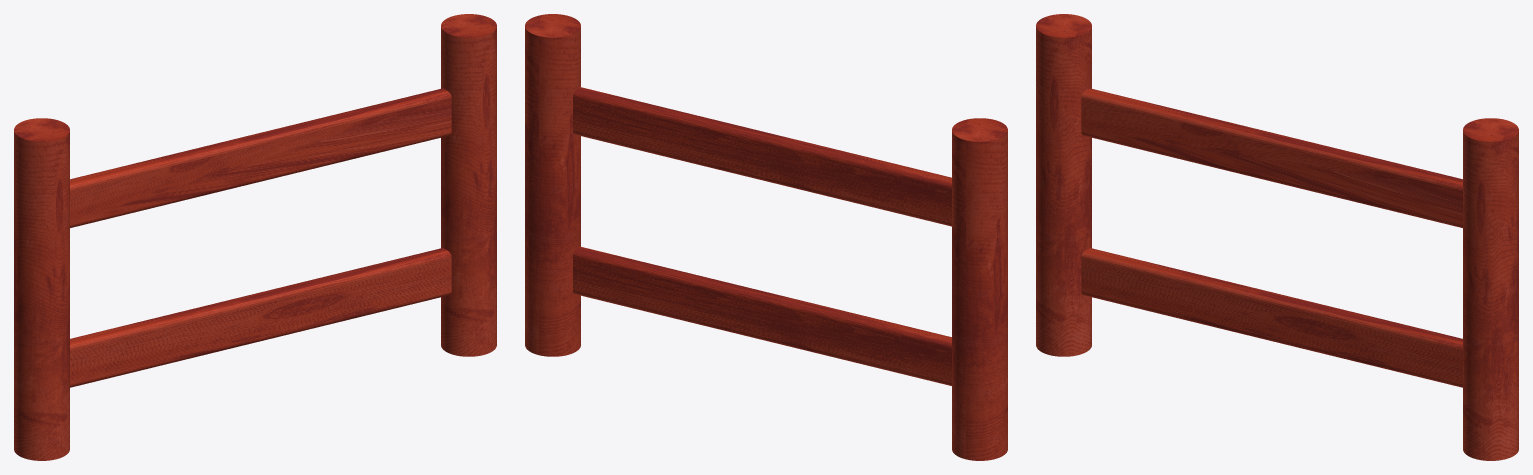
Rendered from fenceB.fbx.
3 views of the same model, side by side, from view 1: azimuth 30°, elevation 25°; view 2: azimuth 150°, elevation 25°; view 3: azimuth 330°, elevation 25° (orthographic).
Parts seen in each view (by area): view 1: Cylinder.002; view 2: Cylinder.002; view 3: Cylinder.002.
Boxes of the visible parts, box(x1,y1,x2,y2) form: Cylinder.002: box(14, 14, 496, 460); Cylinder.002: box(525, 14, 1007, 460); Cylinder.002: box(1036, 14, 1518, 460).
Bounding box in the file's own units: 61.38 × 39.37 × 6.26.
1 material, 1 textured.
